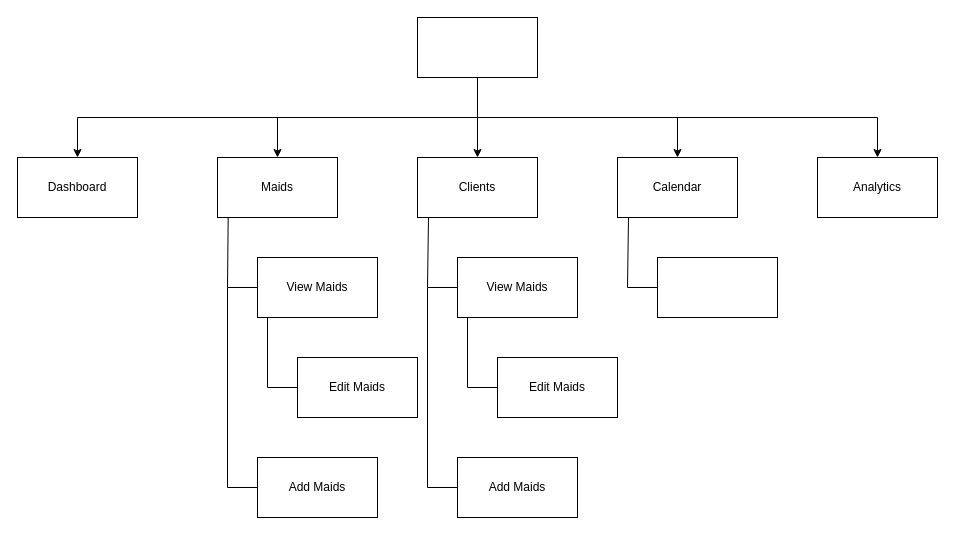
The diagram is 955 pixels wide and 535 high, and some of its shapes have lost their labels. Here are the shapes that lost their labels. From the top down, the centre of each, then its label:
At point 477,47: "Index".
At point 717,287: "Add Event".
